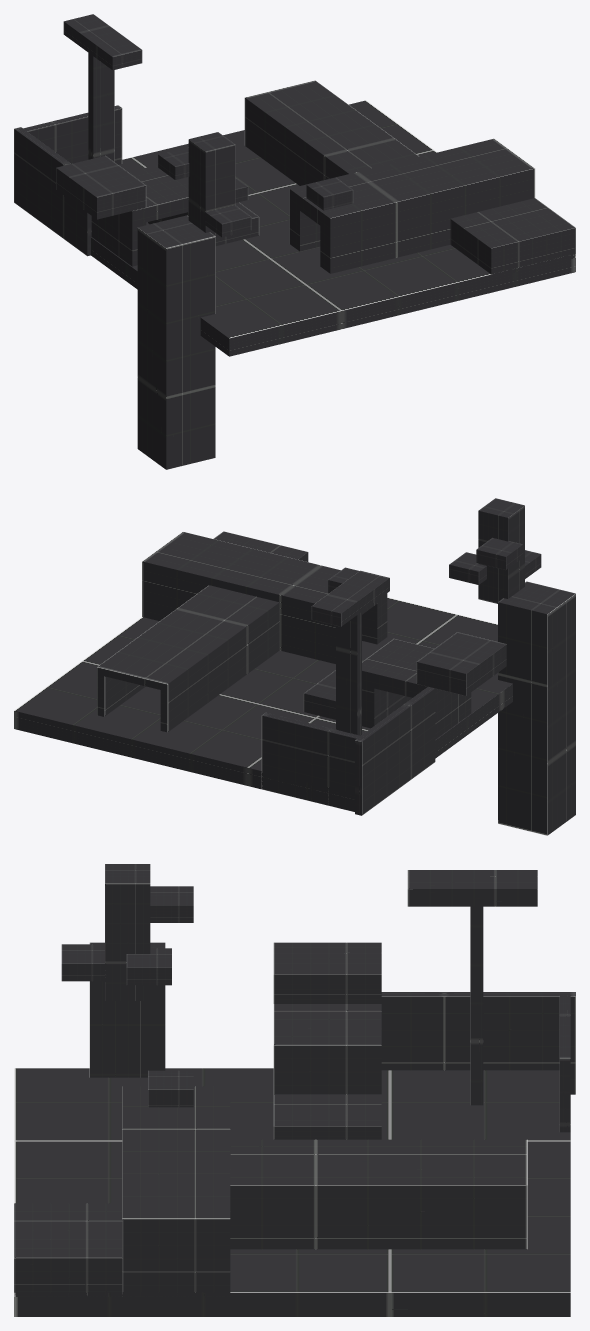
The model's file is Godot_ExportTest.glb.
3 views of the same model, one above another, from view 1: azimuth 30°, elevation 25°; view 2: azimuth 150°, elevation 25°; view 3: azimuth 270°, elevation 25° (orthographic). The views are drawn at different scales.
Visible parts, largest first — view 1: CSGBakedMeshInstance3D2, CSGBakedMeshInstance3D, CSGBakedMeshInstance3D10, CSGBakedMeshInstance3D6, CSGBakedMeshInstance3D5, CSGBakedMeshInstance3D4, CSGBakedMeshInstance3D7, CSGBakedMeshInstance3D9, CSGBakedMeshInstance3D11, CSGBakedMeshInstance3D17, CSGBakedMeshInstance3D3, CSGBakedMeshInstance3D16 (+4 smaller); view 2: CSGBakedMeshInstance3D2, CSGBakedMeshInstance3D10, CSGBakedMeshInstance3D6, CSGBakedMeshInstance3D, CSGBakedMeshInstance3D3, CSGBakedMeshInstance3D4, CSGBakedMeshInstance3D7, CSGBakedMeshInstance3D9, CSGBakedMeshInstance3D11, CSGBakedMeshInstance3D17, CSGBakedMeshInstance3D16, CSGBakedMeshInstance3D8 (+3 smaller); view 3: CSGBakedMeshInstance3D2, CSGBakedMeshInstance3D6, CSGBakedMeshInstance3D, CSGBakedMeshInstance3D4, CSGBakedMeshInstance3D5, CSGBakedMeshInstance3D7, CSGBakedMeshInstance3D9, CSGBakedMeshInstance3D10, CSGBakedMeshInstance3D11, CSGBakedMeshInstance3D8, CSGBakedMeshInstance3D16, CSGBakedMeshInstance3D17 (+5 smaller).
Boxes of the visible parts, x1,y1,x2,y2 form: CSGBakedMeshInstance3D2: [91, 100, 575, 356]; CSGBakedMeshInstance3D: [289, 138, 535, 273]; CSGBakedMeshInstance3D10: [137, 215, 215, 469]; CSGBakedMeshInstance3D6: [244, 80, 419, 185]; CSGBakedMeshInstance3D5: [450, 198, 575, 275]; CSGBakedMeshInstance3D4: [14, 127, 91, 256]; CSGBakedMeshInstance3D7: [91, 165, 188, 266]; CSGBakedMeshInstance3D9: [56, 155, 146, 219]; CSGBakedMeshInstance3D11: [188, 132, 235, 237]; CSGBakedMeshInstance3D17: [88, 53, 114, 161]; CSGBakedMeshInstance3D3: [20, 105, 122, 164]; CSGBakedMeshInstance3D16: [63, 14, 142, 70]; CSGBakedMeshInstance3D2: [14, 597, 512, 811]; CSGBakedMeshInstance3D10: [498, 581, 575, 835]; CSGBakedMeshInstance3D6: [97, 585, 279, 732]; CSGBakedMeshInstance3D: [142, 531, 387, 663]; CSGBakedMeshInstance3D3: [261, 712, 363, 811]; CSGBakedMeshInstance3D4: [355, 687, 435, 815]; CSGBakedMeshInstance3D7: [362, 639, 471, 739]; CSGBakedMeshInstance3D9: [416, 632, 506, 695]; CSGBakedMeshInstance3D11: [478, 498, 524, 603]; CSGBakedMeshInstance3D17: [336, 589, 361, 735]; CSGBakedMeshInstance3D16: [311, 570, 389, 626]; CSGBakedMeshInstance3D8: [303, 670, 335, 719]; CSGBakedMeshInstance3D2: [14, 1068, 570, 1316]; CSGBakedMeshInstance3D6: [230, 1139, 527, 1249]; CSGBakedMeshInstance3D: [122, 1086, 230, 1297]; CSGBakedMeshInstance3D4: [381, 992, 575, 1094]; CSGBakedMeshInstance3D5: [14, 1203, 122, 1296]; CSGBakedMeshInstance3D7: [273, 1004, 381, 1094]; CSGBakedMeshInstance3D9: [273, 942, 381, 1003]; CSGBakedMeshInstance3D10: [89, 942, 165, 1077]; CSGBakedMeshInstance3D11: [105, 864, 150, 1000]; CSGBakedMeshInstance3D8: [273, 1094, 381, 1139]; CSGBakedMeshInstance3D16: [407, 870, 537, 906]; CSGBakedMeshInstance3D17: [470, 906, 483, 1105].
Bounding box in the file's own units: 54 × 41.8 × 51.95.
1 material, 1 textured.
